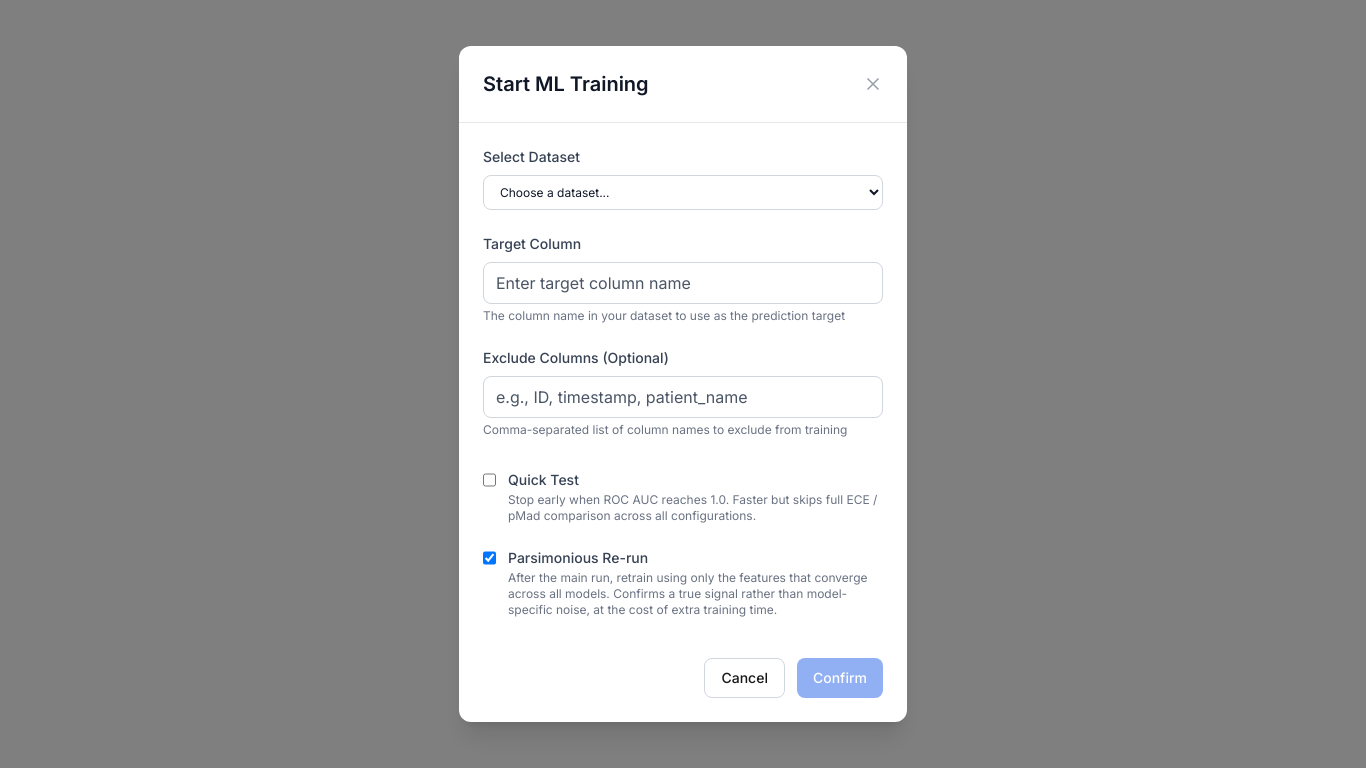
Test: RunModelModal › User Interactions › enables Confirm button when dataset and target column are provided
The image size is (1366, 768).
// Select a dataset
Select "data1.csv (2.00 MB) - 1/15/2024 12:00 AM" in the dropdown labelled "Select Dataset": (683, 192) x1=483 y1=175 x2=883 y2=210
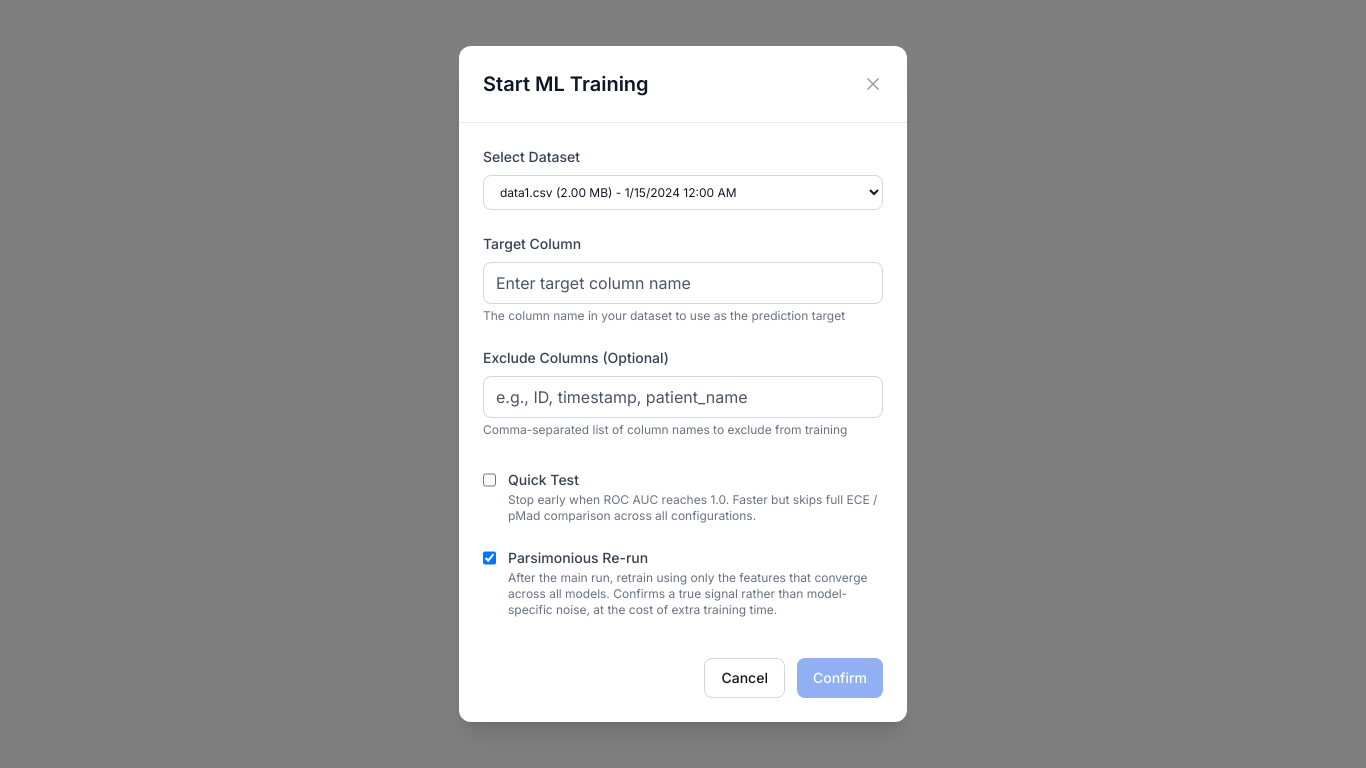
// Enter target column
In the field labelled "Target Column": (683, 283) x1=483 y1=262 x2=883 y2=304, type "outcome"
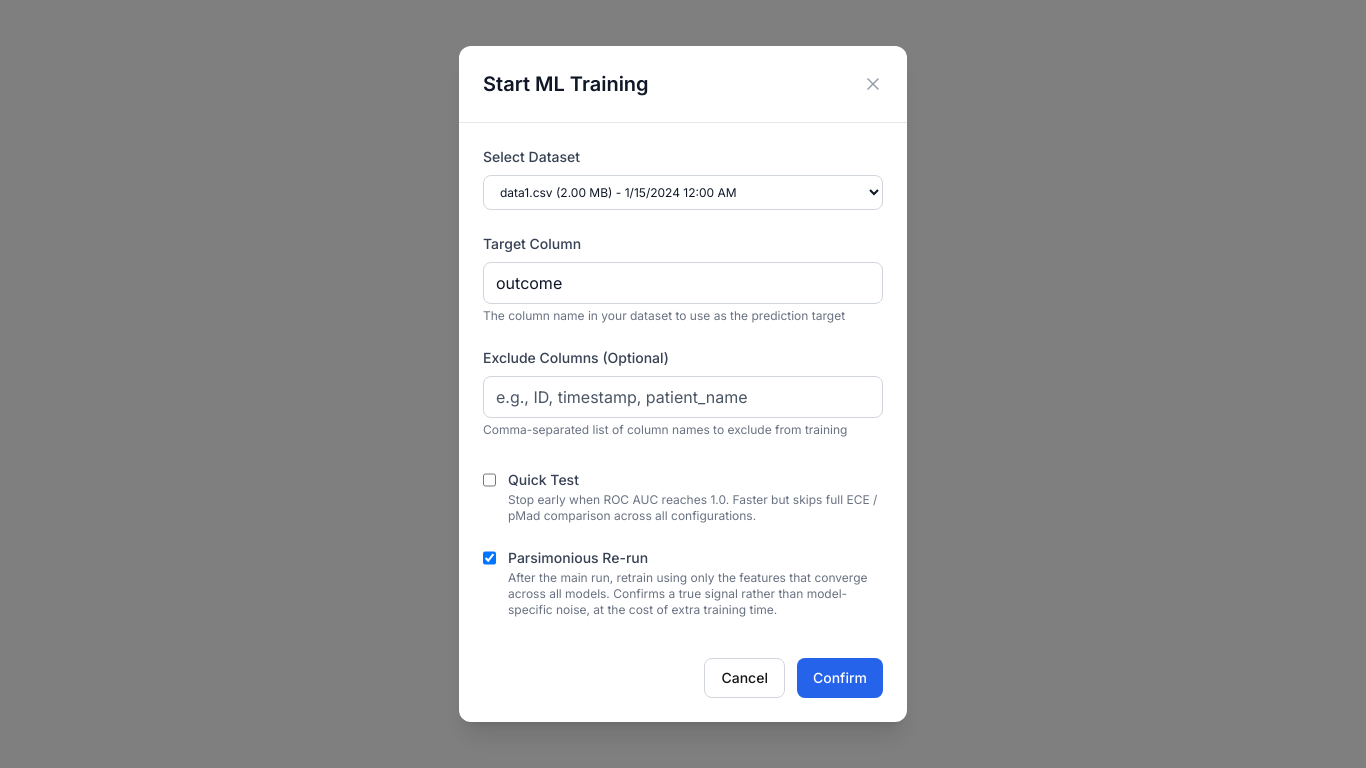
Expected: the button "Confirm" is enabled, x1=797 y1=658 x2=883 y2=698
